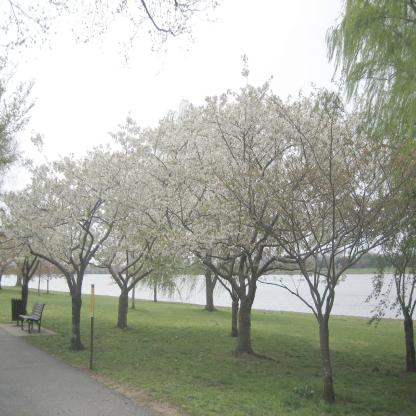Someiyoshino: (0, 38, 382, 336)
